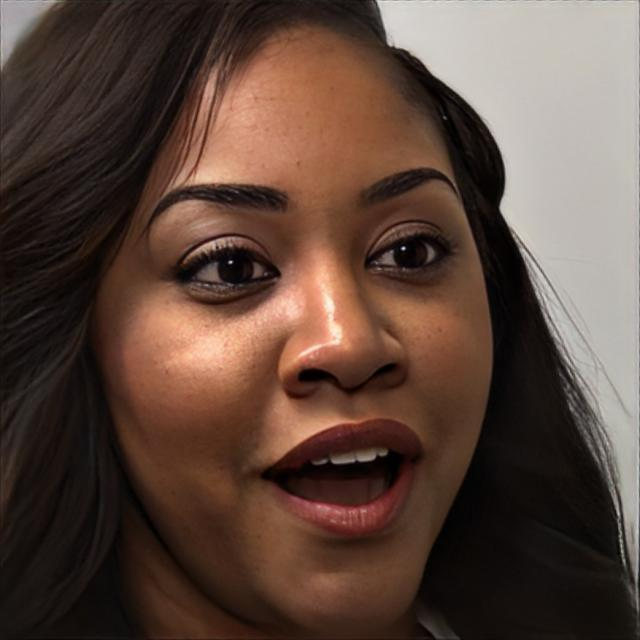surprise: (92, 35, 495, 621)
